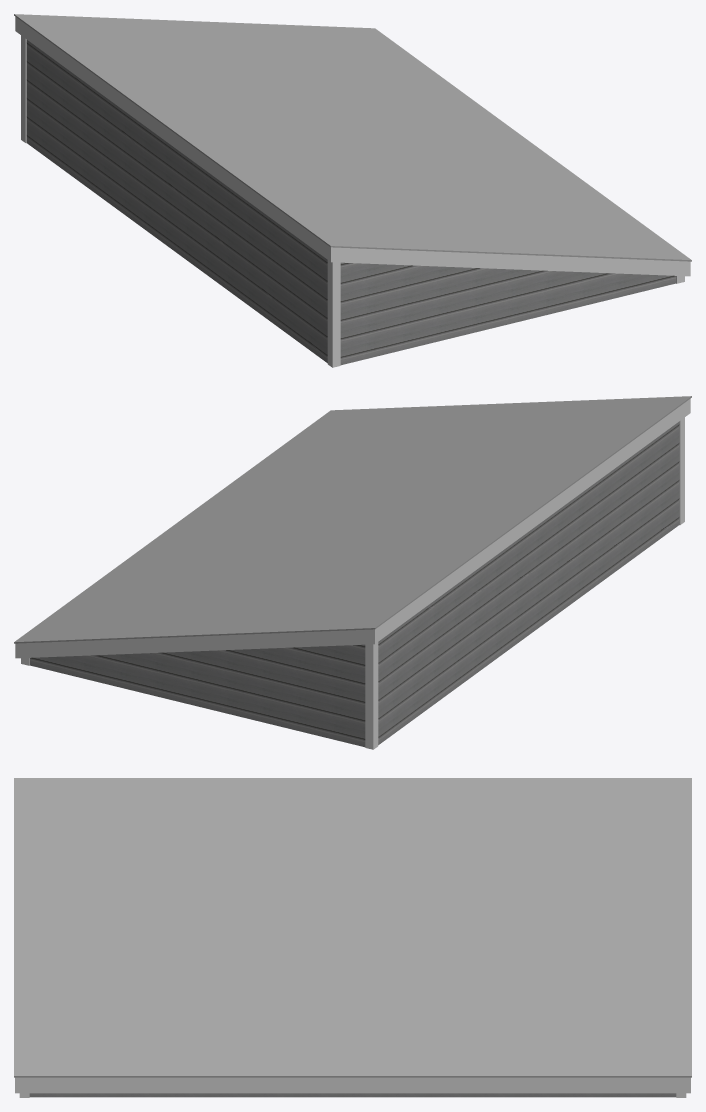
The model's file is slant.glb.
3 renders of one model, top to bottom at view 1: azimuth 30°, elevation 25°; view 2: azimuth 150°, elevation 25°; view 3: azimuth 270°, elevation 25°, orthographic. The views are drawn at different scales.
Parts seen in each view (by area): view 1: Roof_Top_2.001, Roof_exterior, Roof_Siding_2, Vertical_Trim_2; view 2: Roof_Top_2.001, Roof_exterior, Roof_Siding_2, Vertical_Trim_2; view 3: Roof_Top_2.001, Roof_Siding_2, Roof_exterior.
Part boxes in pixels (<box>): Roof_Top_2.001: <box>14,14,691,261</box>; Roof_exterior: <box>26,40,676,365</box>; Roof_Siding_2: <box>15,17,690,276</box>; Vertical_Trim_2: <box>21,35,684,367</box>; Roof_Top_2.001: <box>14,396,691,643</box>; Roof_exterior: <box>29,422,679,747</box>; Roof_Siding_2: <box>15,399,690,658</box>; Vertical_Trim_2: <box>21,417,684,749</box>; Roof_Top_2.001: <box>14,778,691,1077</box>; Roof_Siding_2: <box>15,1077,690,1093</box>; Roof_exterior: <box>29,1093,676,1097</box>.
Bounding box in the file's own units: 5.05 × 1.67 × 7.67.
Materials: 7 (2 with a texture image).
